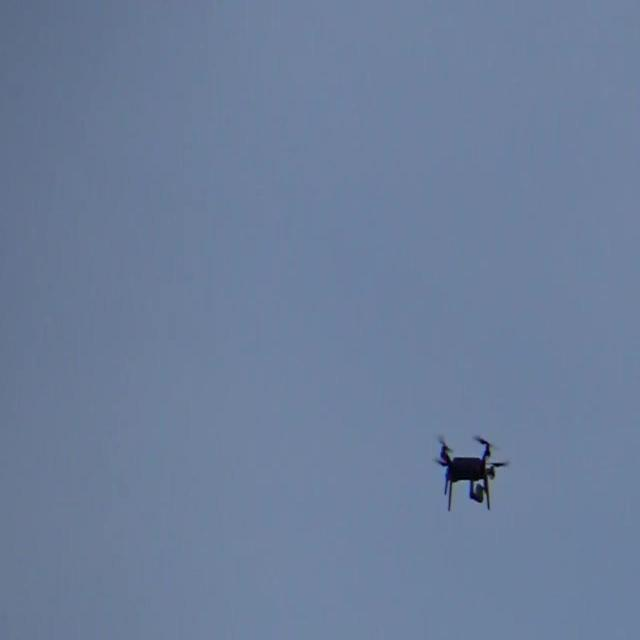drone: (434, 436, 510, 512)
